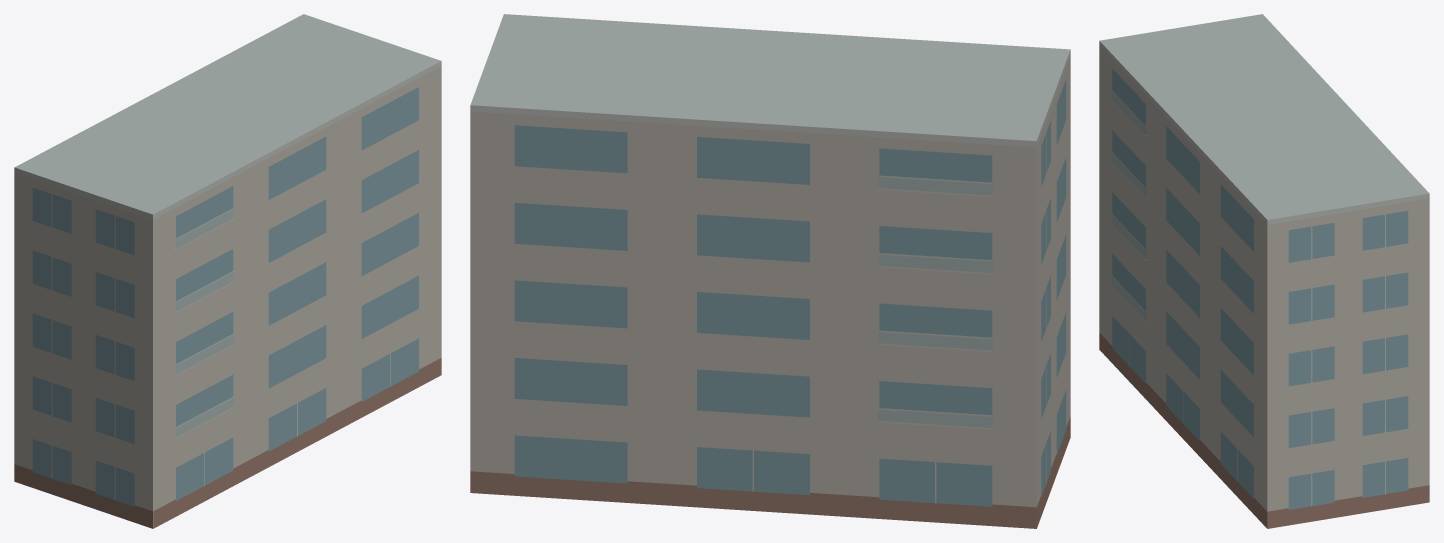
Rendered from survey-upis-33033838.glb.
3 renders of one model, left to right at view 1: azimuth 30°, elevation 25°; view 2: azimuth 150°, elevation 25°; view 3: azimuth 270°, elevation 25°, orthographic. The views are drawn at different scales.
Visible parts, largest first — view 1: survey-upis-33033838.tmp; view 2: survey-upis-33033838.tmp; view 3: survey-upis-33033838.tmp.
Boxes of the visible parts, x1=… form: survey-upis-33033838.tmp: x1=14, y1=14, x2=441, y2=528; survey-upis-33033838.tmp: x1=470, y1=14, x2=1070, y2=528; survey-upis-33033838.tmp: x1=1099, y1=14, x2=1429, y2=528.
Bounding box in the file's own units: 21.82 × 15.25 × 14.79.
